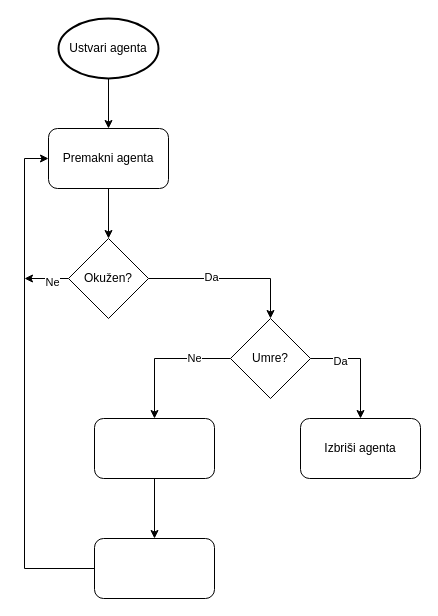
The diagram is 438 pixels wide and 616 high, and some of its shapes have lost their labels. The box of each missing label's shape, as (x1, y1, x2, y2) in pixels:
Okrevaj: (94, 538, 214, 598)
Okuži bližnje: (94, 418, 214, 478)
